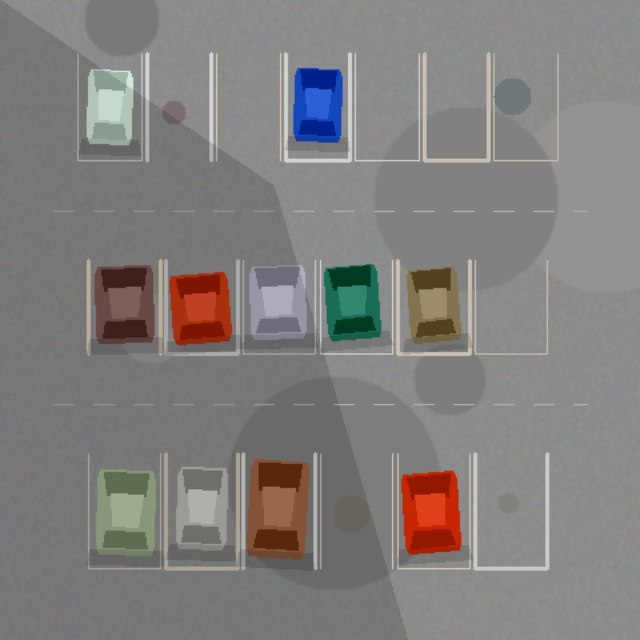space-empty: (320, 453, 392, 568), (475, 453, 547, 568), (147, 53, 211, 160), (216, 53, 280, 160), (355, 53, 419, 160), (424, 53, 488, 160), (493, 53, 557, 160), (475, 260, 547, 353)
space-occupied: (88, 453, 160, 568), (165, 453, 237, 568), (243, 453, 315, 568), (397, 453, 469, 568), (77, 53, 141, 160), (285, 53, 349, 160), (88, 260, 160, 353), (165, 260, 237, 353), (243, 260, 315, 353), (320, 260, 392, 353), (397, 260, 469, 353)
